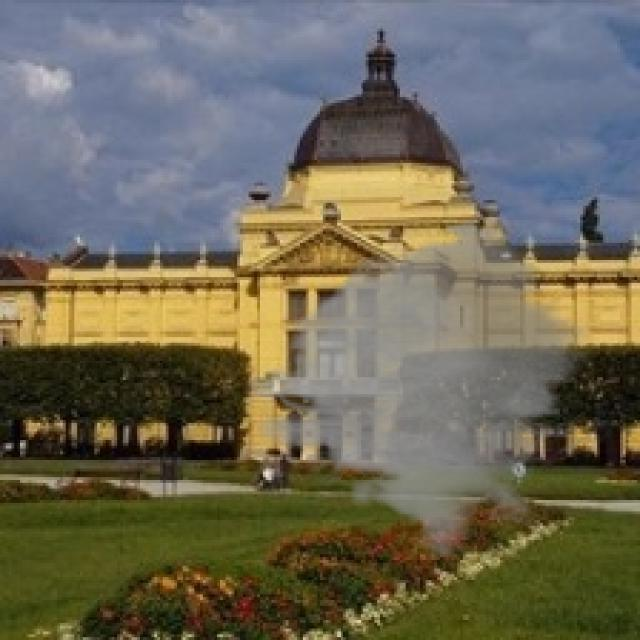smoke: (243, 217, 620, 560)
